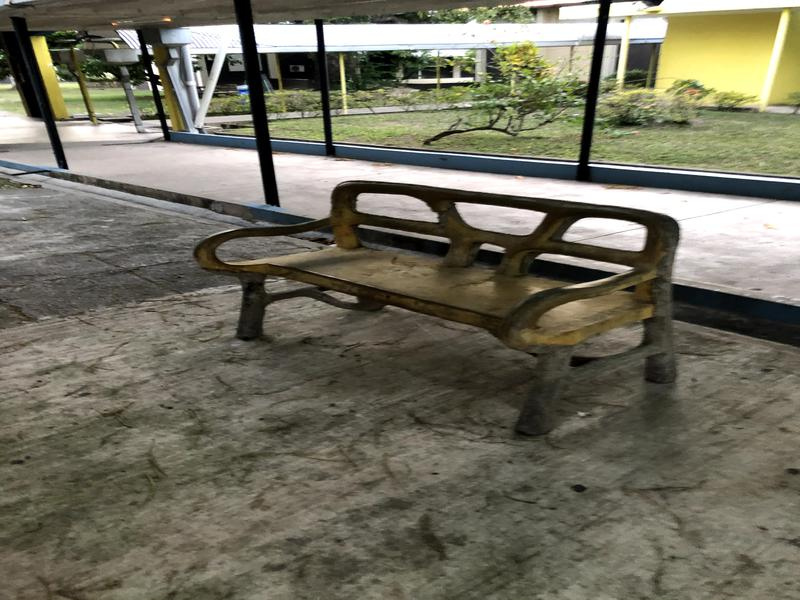18.0050864_-76.7496363_bench: (177, 122, 710, 454)
